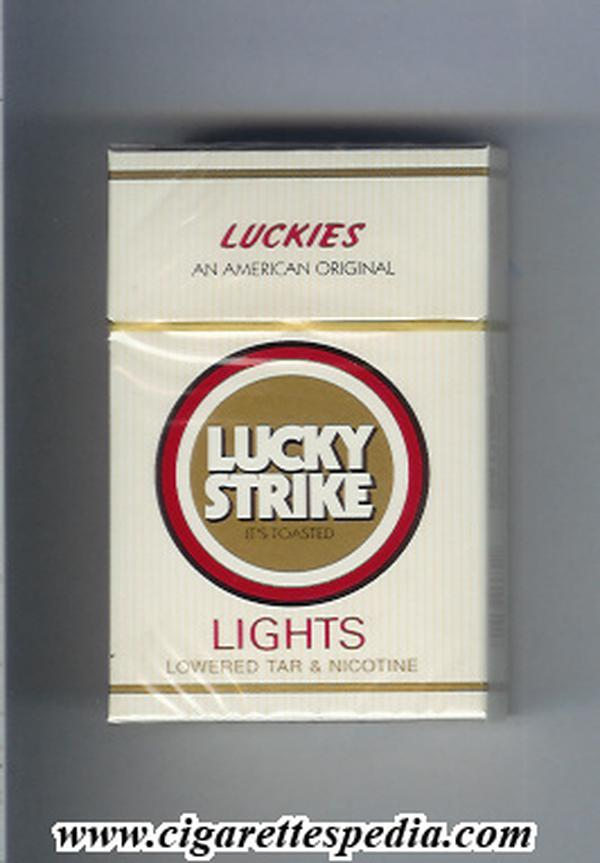lucky_strike_red: (108, 148, 486, 714)
